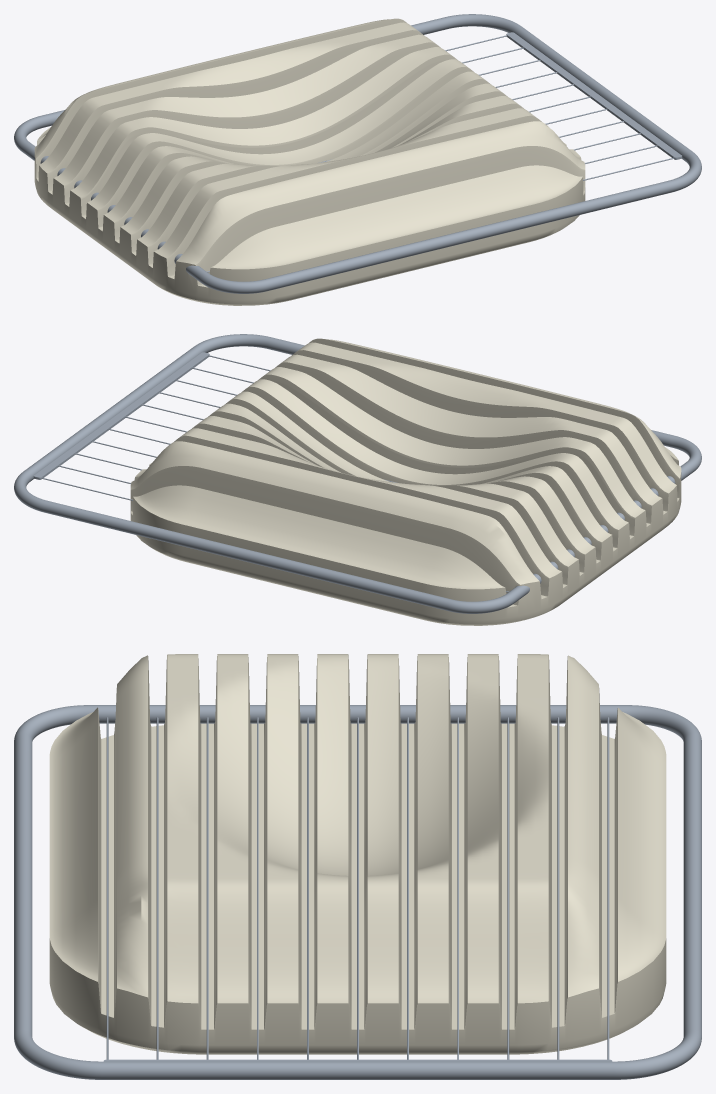
The picture shows the model from 3 angles, top to bottom: view 1: azimuth 30°, elevation 25°; view 2: azimuth 150°, elevation 25°; view 3: azimuth 270°, elevation 25°; orthographic projection. The views are drawn at different scales.
Parts seen in each view (by area): view 1: part_001_Molded_base_and_ribbed_egg_cradle, part_014_Bent_perimeter_handle_and_pivot_journals, part_002_Front_wire_anchor_strip; view 2: part_001_Molded_base_and_ribbed_egg_cradle, part_014_Bent_perimeter_handle_and_pivot_journals, part_002_Front_wire_anchor_strip; view 3: part_001_Molded_base_and_ribbed_egg_cradle, part_014_Bent_perimeter_handle_and_pivot_journals, part_000_Rear_wire_anchor_crossbar, part_002_Front_wire_anchor_strip, part_005_Cutting_wire_09, part_011_Cutting_wire_03, part_003_Cutting_wire_11, part_004_Cutting_wire_10, part_012_Cutting_wire_02, part_013_Cutting_wire_01, part_006_Cutting_wire_08, part_007_Cutting_wire_07 (+3 smaller).
Part boxes in pixels (x1,y1,x2,y2): part_001_Molded_base_and_ribbed_egg_cradle: (34,18,585,305); part_014_Bent_perimeter_handle_and_pivot_journals: (14,14,701,293); part_002_Front_wire_anchor_strip: (506,32,682,159); part_001_Molded_base_and_ribbed_egg_cradle: (130,338,681,625); part_014_Bent_perimeter_handle_and_pivot_journals: (14,334,701,613); part_002_Front_wire_anchor_strip: (33,352,209,479); part_001_Molded_base_and_ribbed_egg_cradle: (49,654,666,1054); part_014_Bent_perimeter_handle_and_pivot_journals: (14,705,701,1079); part_000_Rear_wire_anchor_crossbar: (153,705,562,723); part_002_Front_wire_anchor_strip: (103,1059,612,1061); part_005_Cutting_wire_09: (507,717,509,1059); part_011_Cutting_wire_03: (206,717,208,1059); part_003_Cutting_wire_11: (607,717,609,1059); part_004_Cutting_wire_10: (557,717,559,1059); part_012_Cutting_wire_02: (156,717,158,1059); part_013_Cutting_wire_01: (106,717,108,1059); part_006_Cutting_wire_08: (457,717,458,1059); part_007_Cutting_wire_07: (407,717,408,1059).
Size of the model in its own units: 0.1334 by 0.0234 by 0.1044.
